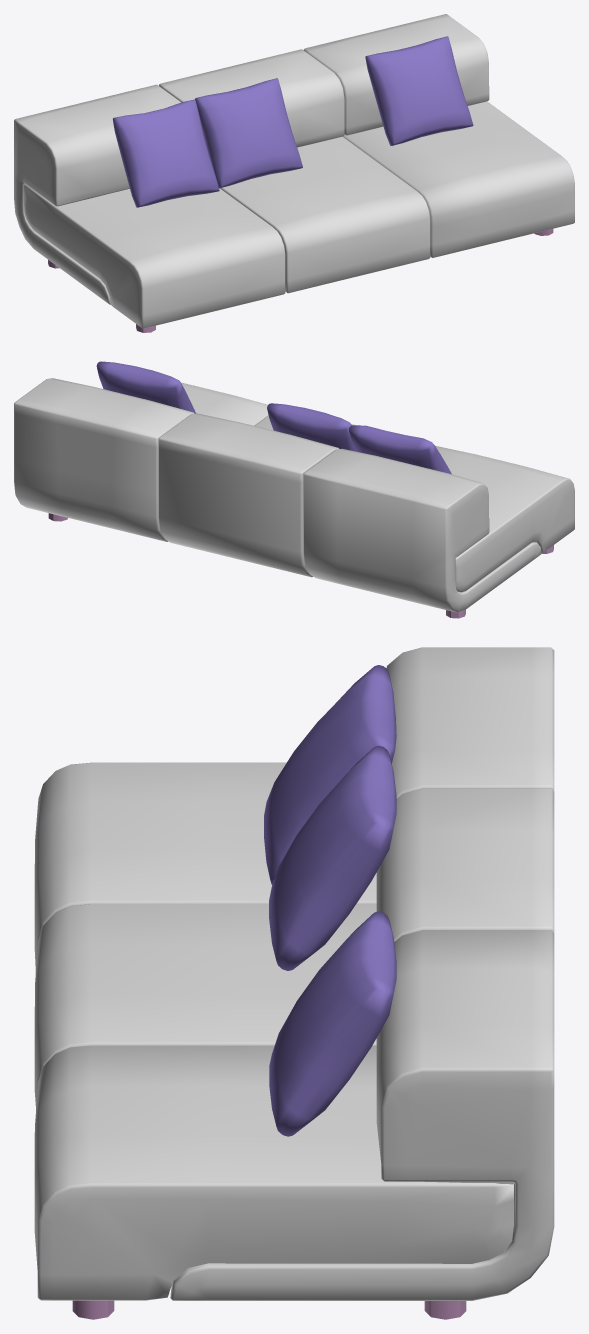
The model's file is MZDSF301.FBX.
3 renders of one model, top to bottom at view 1: azimuth 30°, elevation 25°; view 2: azimuth 150°, elevation 25°; view 3: azimuth 270°, elevation 25°, orthographic. The views are drawn at different scales.
Parts seen in each view (by area): view 1: MZDSF301; view 2: MZDSF301; view 3: MZDSF301.
Part boxes in pixels (x1,y1,x2,y2): MZDSF301: [14, 14, 574, 332]; MZDSF301: [14, 361, 574, 618]; MZDSF301: [34, 647, 554, 1319].
Size of the model in its own units: 242 by 125 by 79.62.
